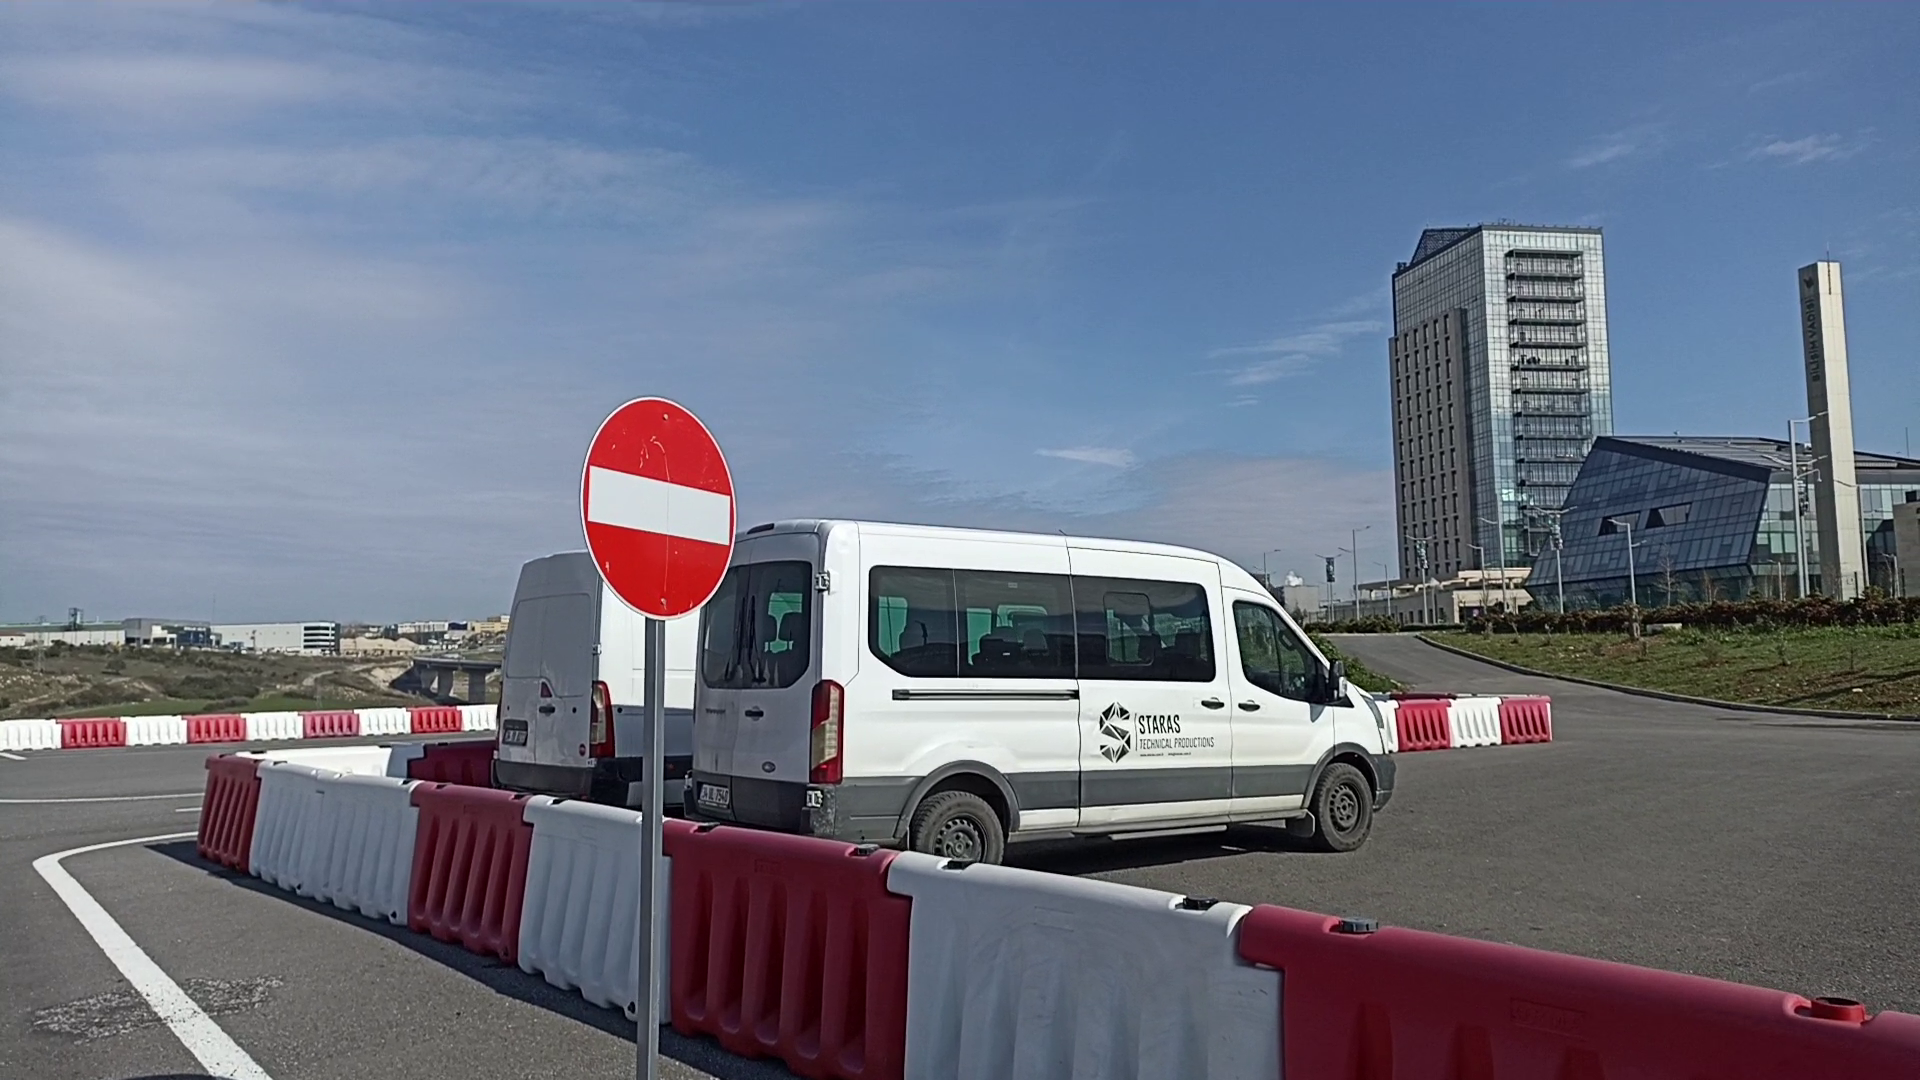noentryway: (578, 392, 741, 620)
